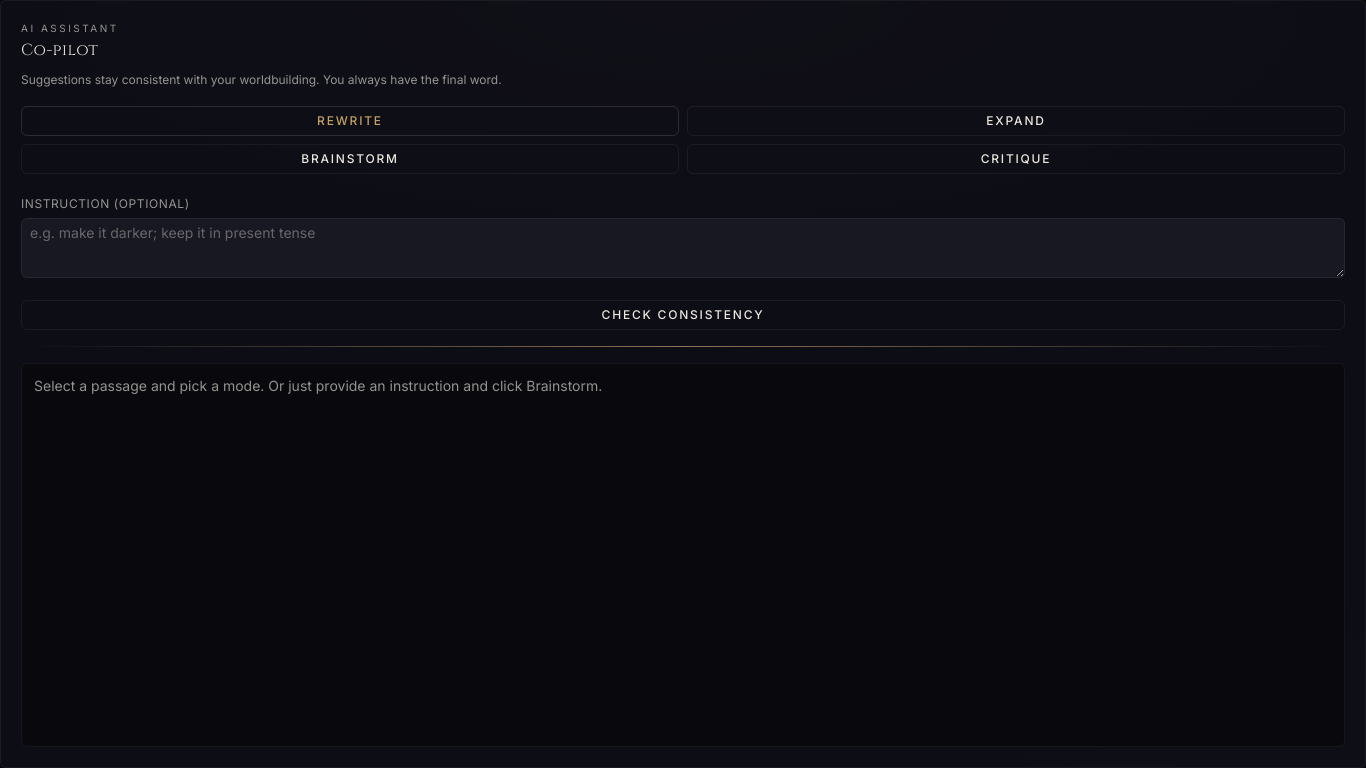
<AIAssistantPanel /> › shows an empty-issues message when consistency report is clean
Click the button "Check consistency" at (683, 314), box [21, 300, 1345, 330]
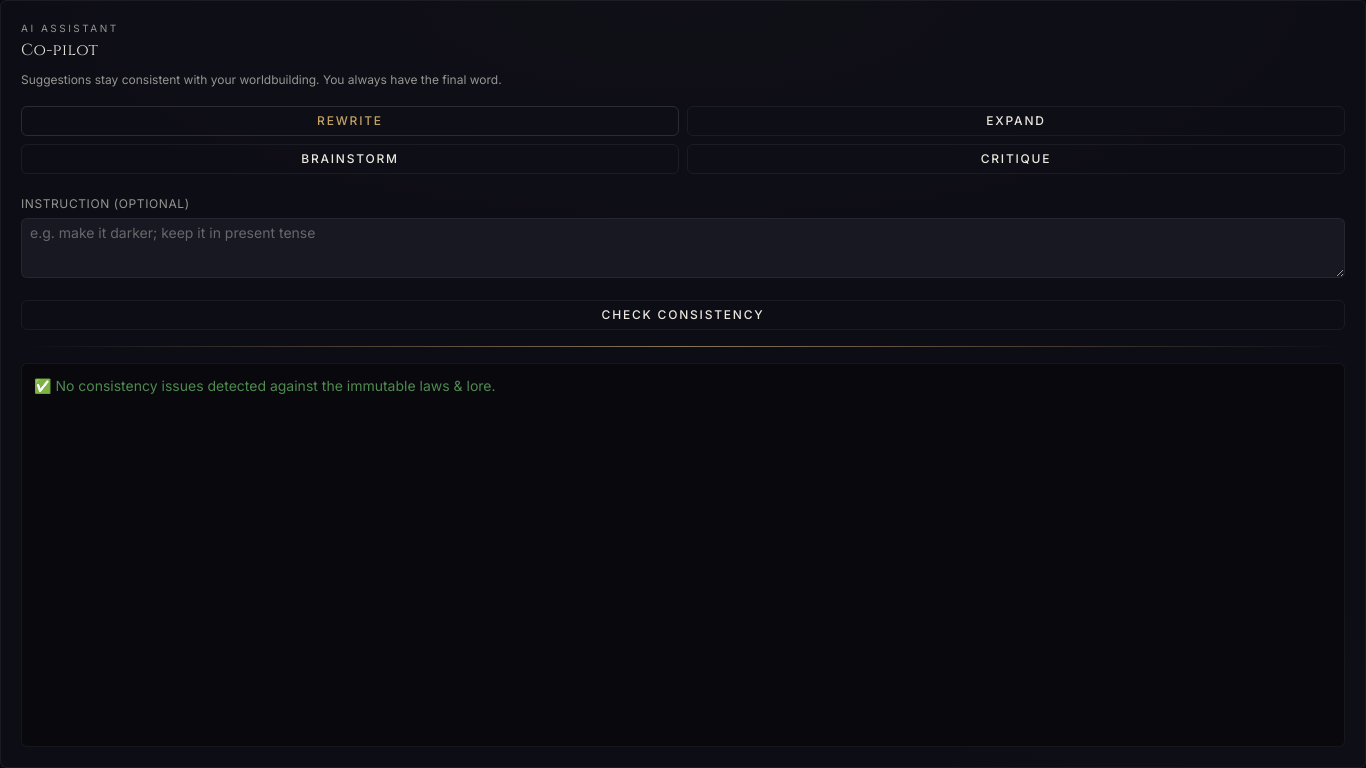
Check: the text "No consistency issues detected" is shown, box [34, 376, 496, 394]
